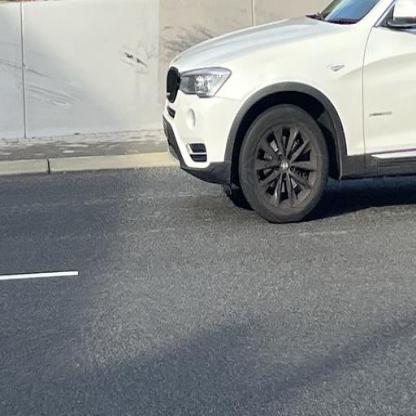Tire: (238, 103, 330, 225)
